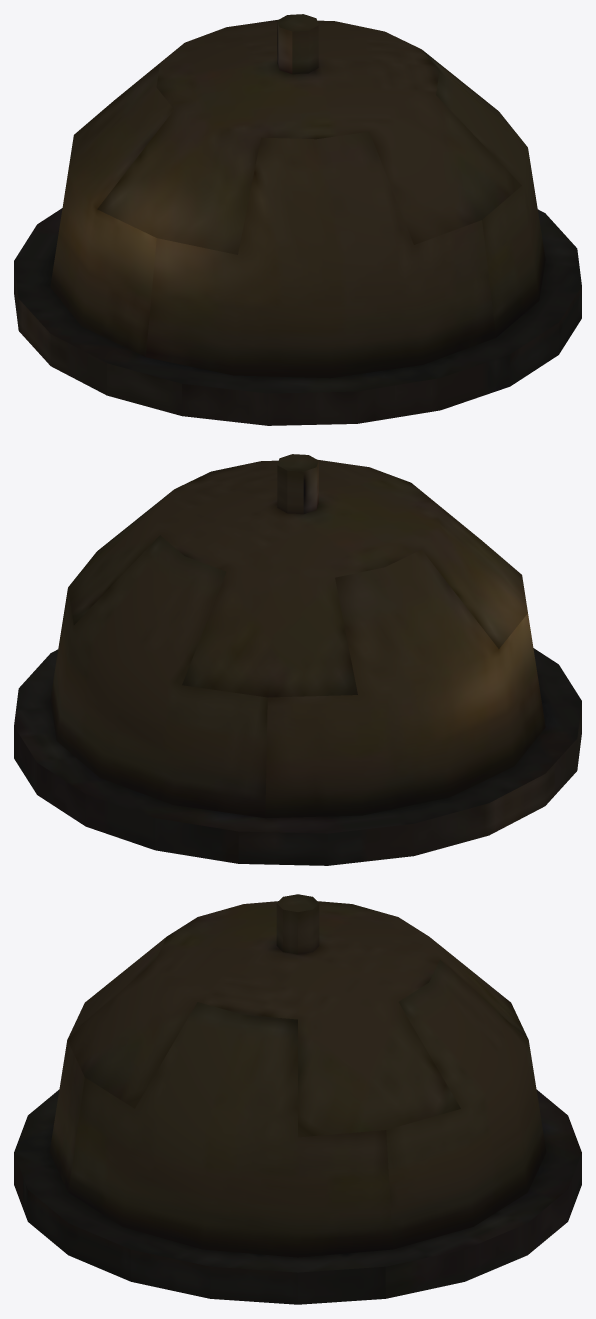
The model's file is cantina_prop_food_dinner.glb.
The picture shows the model from 3 angles, top to bottom: view 1: azimuth 30°, elevation 25°; view 2: azimuth 150°, elevation 25°; view 3: azimuth 270°, elevation 25°; orthographic projection.
Visible parts, largest first — view 1: cantina_prop_food_dinner; view 2: cantina_prop_food_dinner; view 3: cantina_prop_food_dinner.
Boxes of the visible parts, left/top/right/bottom form: cantina_prop_food_dinner: left=14, top=14, right=581, bottom=425; cantina_prop_food_dinner: left=14, top=454, right=581, bottom=865; cantina_prop_food_dinner: left=14, top=894, right=581, bottom=1304.
Bounding box in the file's own units: 0.32 × 0.175 × 0.32.
Materials: 1 (1 with a texture image).
